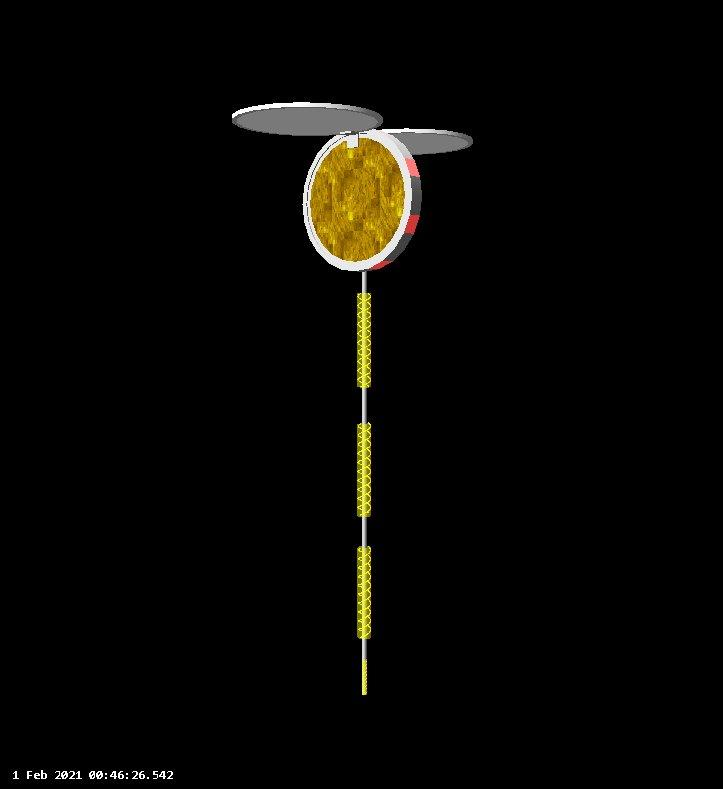antenna: (352, 263, 374, 703), (229, 100, 384, 138), (349, 124, 477, 156)
body: (297, 127, 430, 275)
